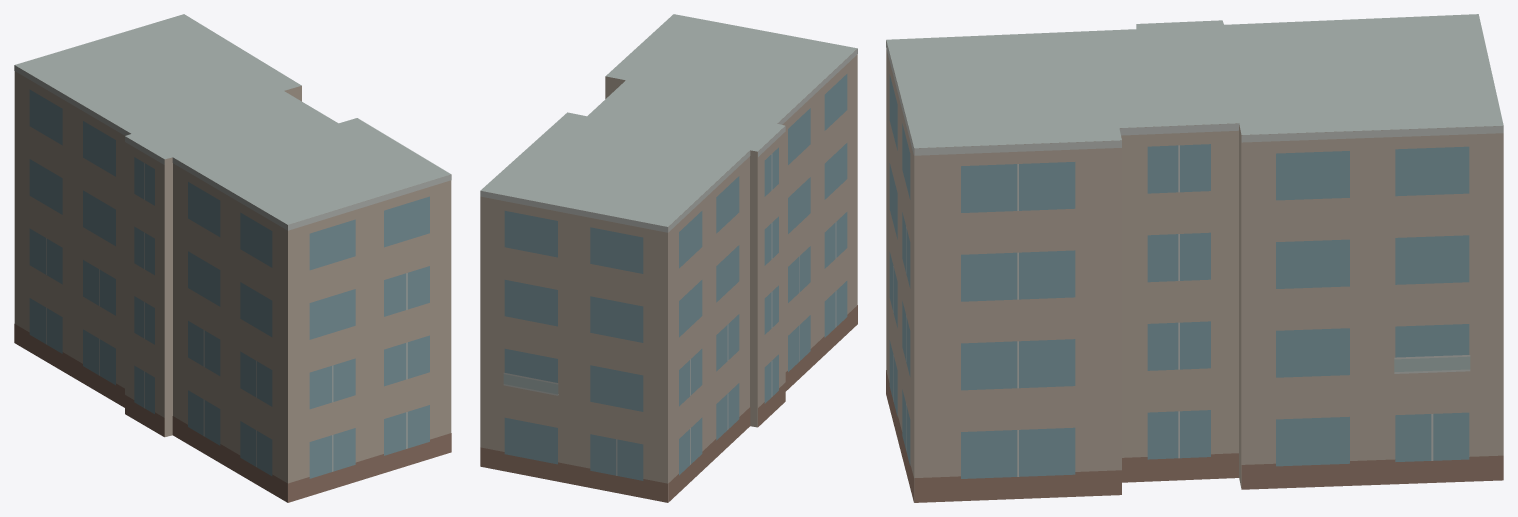
Rendered from survey-upis-32636079.glb.
3 views of the same model, side by side, from view 1: azimuth 30°, elevation 25°; view 2: azimuth 150°, elevation 25°; view 3: azimuth 270°, elevation 25° (orthographic). The views are drawn at different scales.
Parts seen in each view (by area): view 1: survey-upis-32636079.tmp; view 2: survey-upis-32636079.tmp; view 3: survey-upis-32636079.tmp.
Boxes of the visible parts, left/top/right/bottom form: survey-upis-32636079.tmp: left=14, top=14, right=451, bottom=502; survey-upis-32636079.tmp: left=480, top=14, right=857, bottom=502; survey-upis-32636079.tmp: left=886, top=14, right=1503, bottom=502.
Size of the model in its own units: 9.43 by 11.6 by 18.32.
